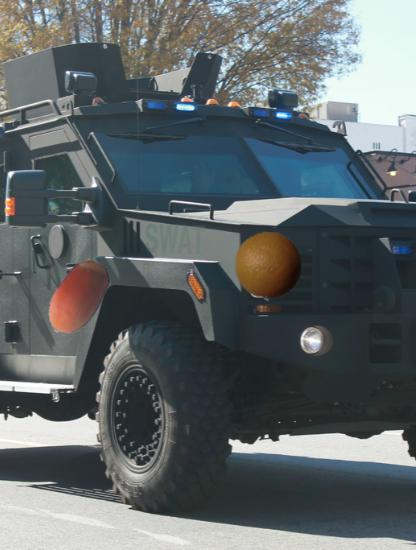Hazelnut: (37, 258, 117, 338)
Orange: (234, 232, 304, 302)
